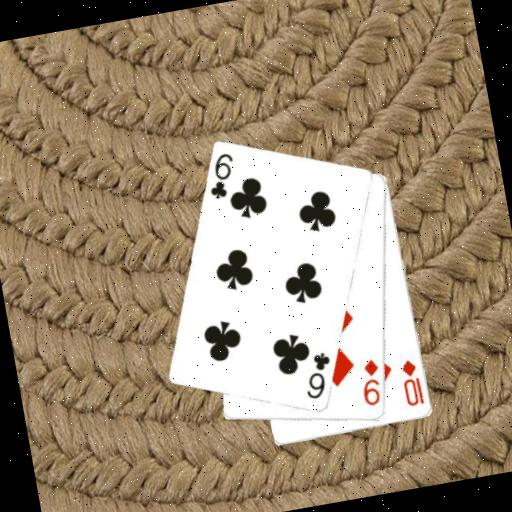10D: (396, 355, 426, 409)
6C: (297, 348, 338, 402), (201, 149, 242, 203)
9D: (354, 355, 386, 409)
